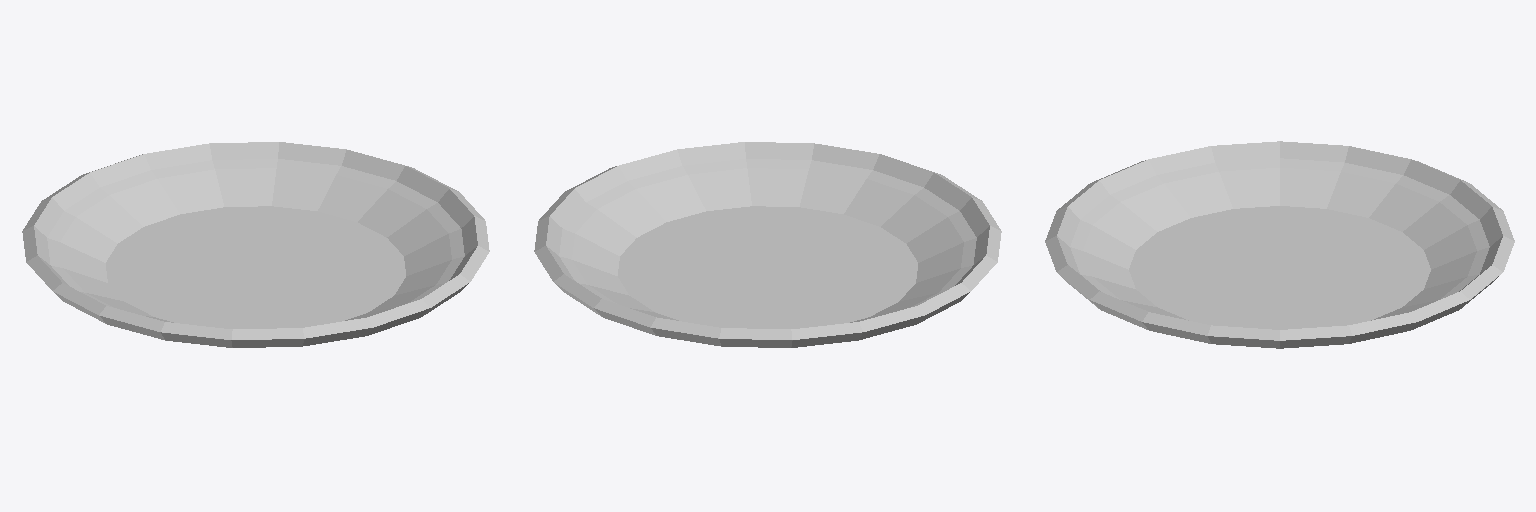
Rendered from Plate.obj.
3 views of the same model, side by side, from view 1: azimuth 30°, elevation 25°; view 2: azimuth 150°, elevation 25°; view 3: azimuth 270°, elevation 25° (orthographic).
Parts seen in each view (by area): view 1: Plate_kitchen.027; view 2: Plate_kitchen.027; view 3: Plate_kitchen.027.
Boxes of the visible parts, box(x1,y1,x2,y2) form: Plate_kitchen.027: box(22, 142, 489, 347); Plate_kitchen.027: box(534, 142, 1001, 347); Plate_kitchen.027: box(1045, 141, 1514, 348).
Bounding box in the file's own units: 2.28 × 0.2184 × 2.28.